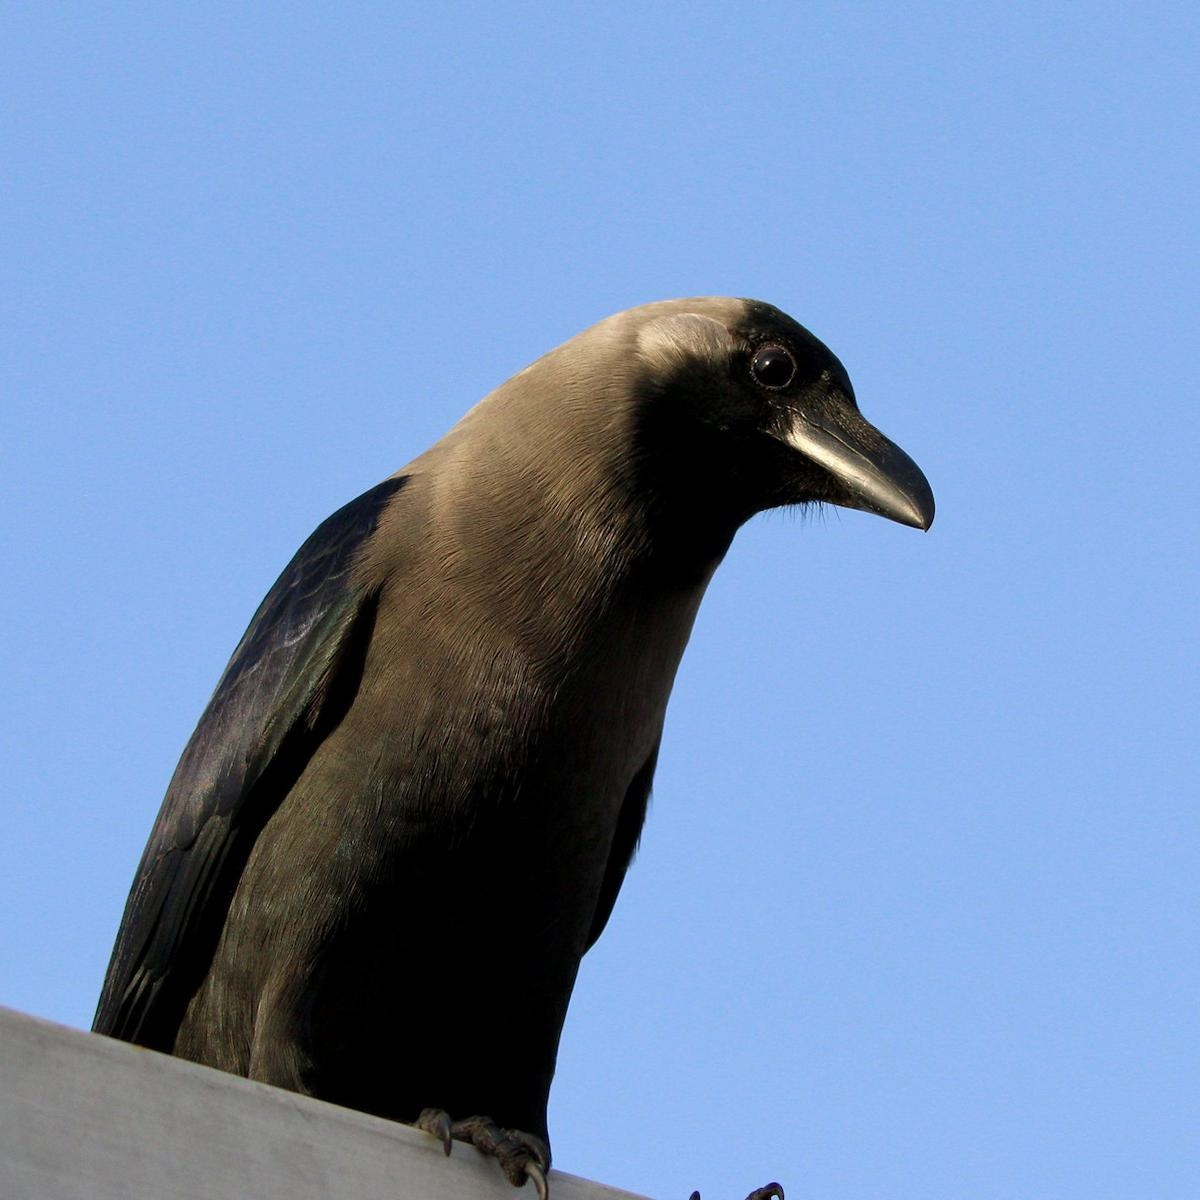crow: (95, 268, 956, 1184)
